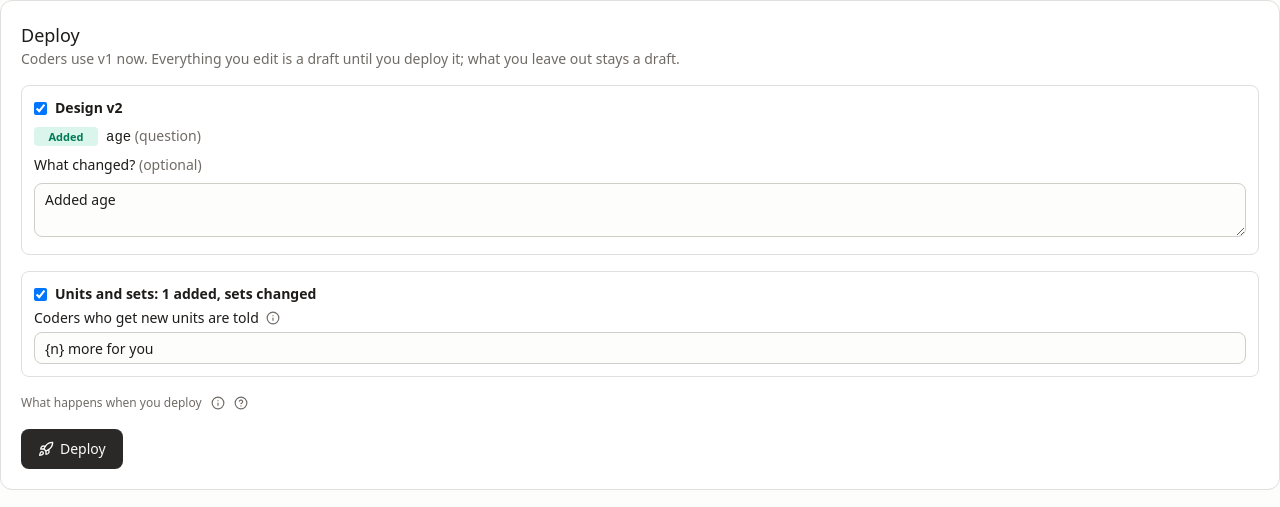
it: the deploy panel › the design only: the units left out stay drafts
Later steps or results of the test are not shown.
Click the checkbox labelled "Units and sets: 1 added, sets changed": point(40, 294) [34,288,47,300]
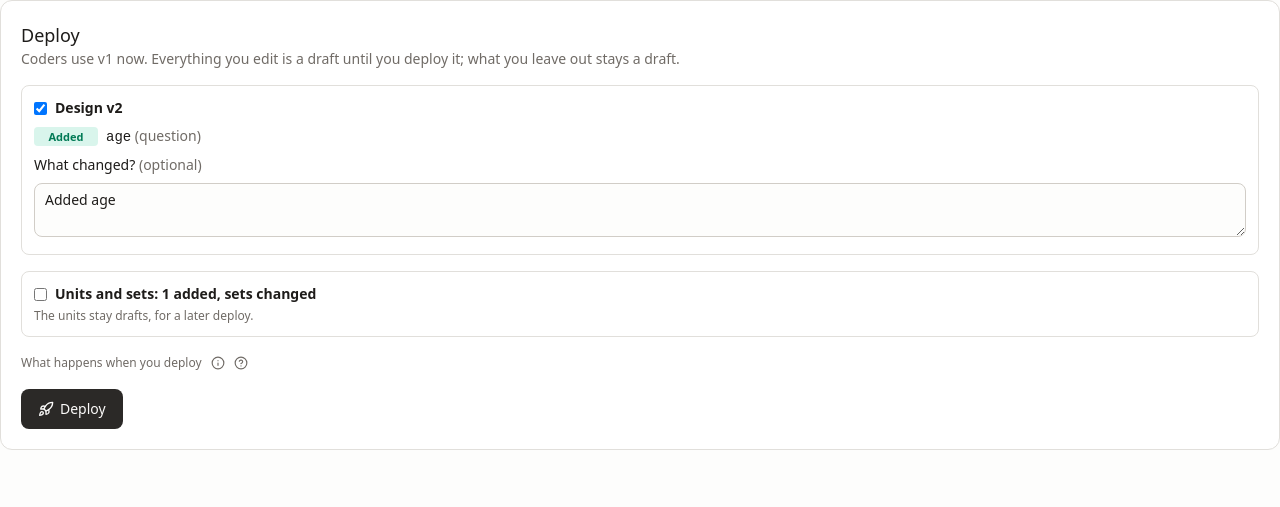
Now the text "The units stay drafts, for a later deploy." is shown, box [34,307,253,324]
